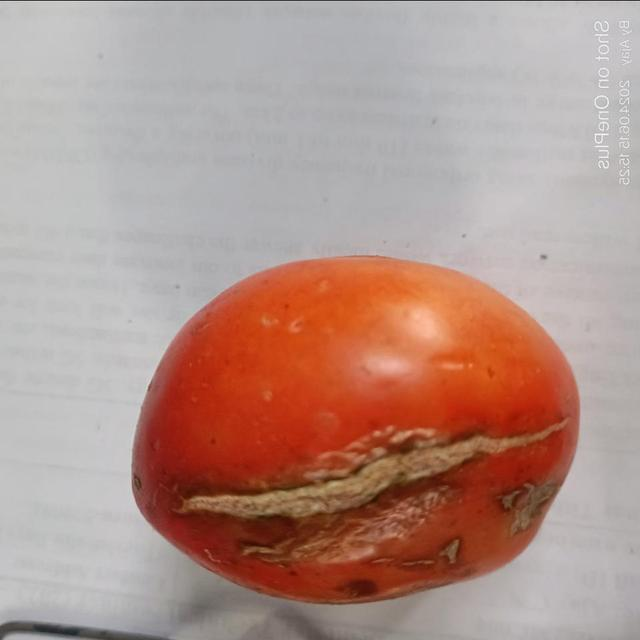Cracking Fruit: (173, 147, 284, 478)
